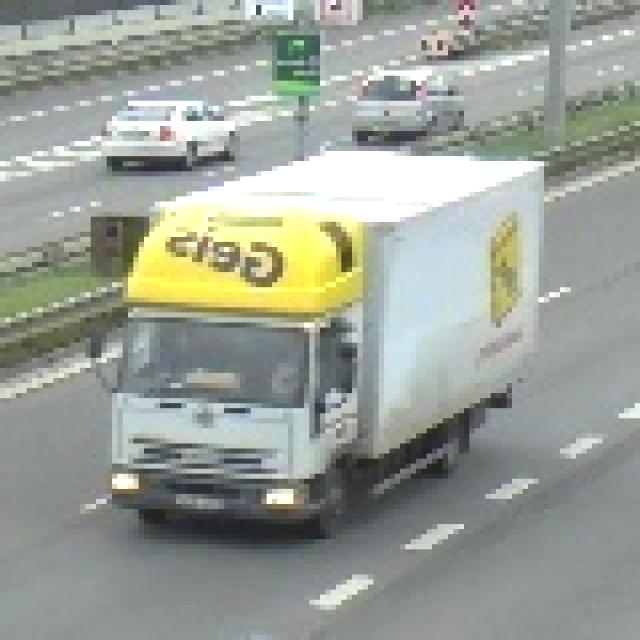truck: (81, 147, 540, 535)
